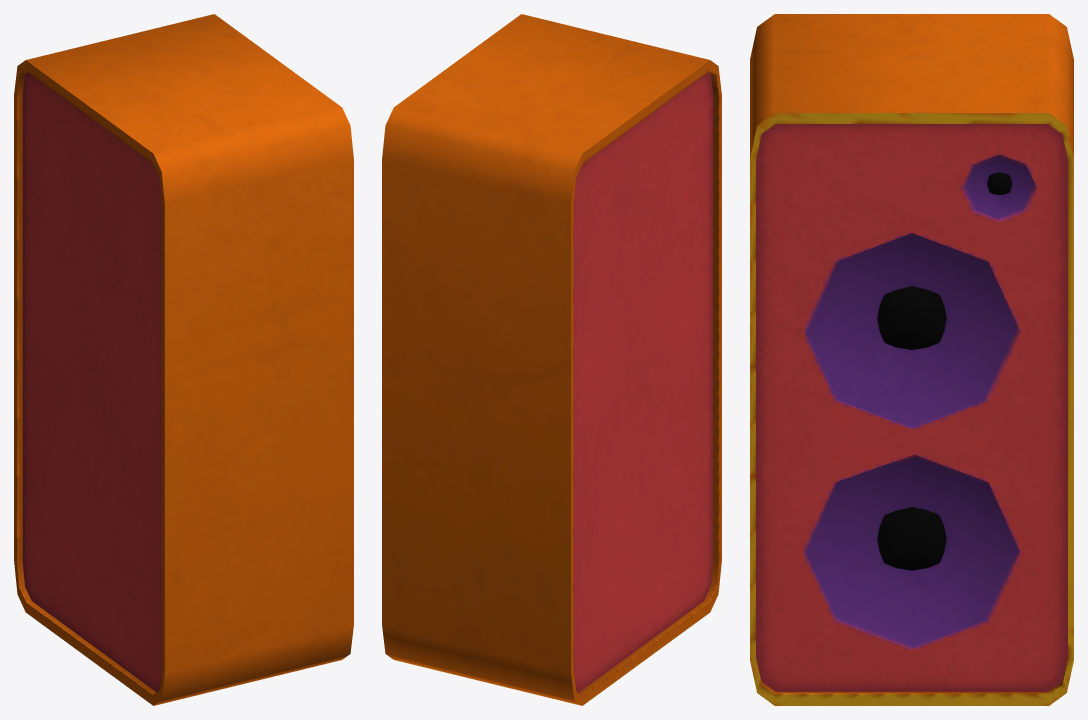
Rendered from Speaker.fbx.
The picture shows the model from 3 angles, left to right: view 1: azimuth 30°, elevation 25°; view 2: azimuth 150°, elevation 25°; view 3: azimuth 270°, elevation 25°; orthographic projection. The views are drawn at different scales.
Visible parts, largest first — view 1: Cube; view 2: Cube; view 3: Cube.
Part boxes in pixels (bbox=[...]): Cube: bbox=[14, 14, 353, 705]; Cube: bbox=[382, 14, 721, 705]; Cube: bbox=[750, 14, 1073, 705].
Bounding box in the file's own units: 39.23 × 110 × 54.29.
1 material, 1 textured.
